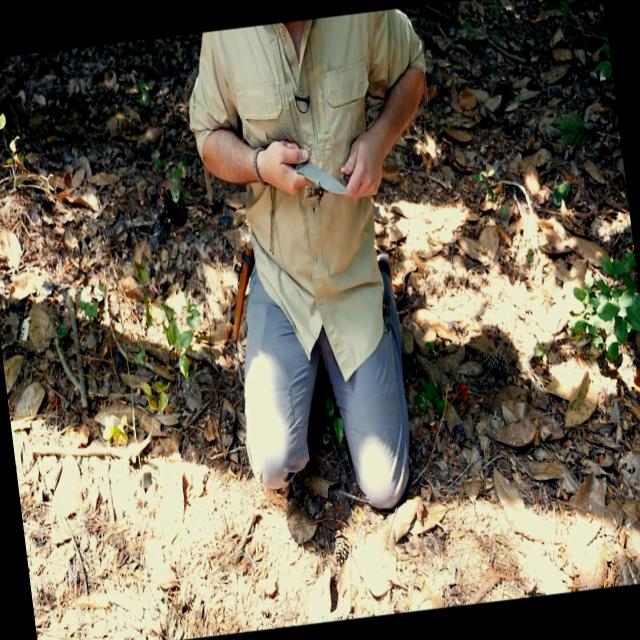knife: (268, 126, 361, 215)
